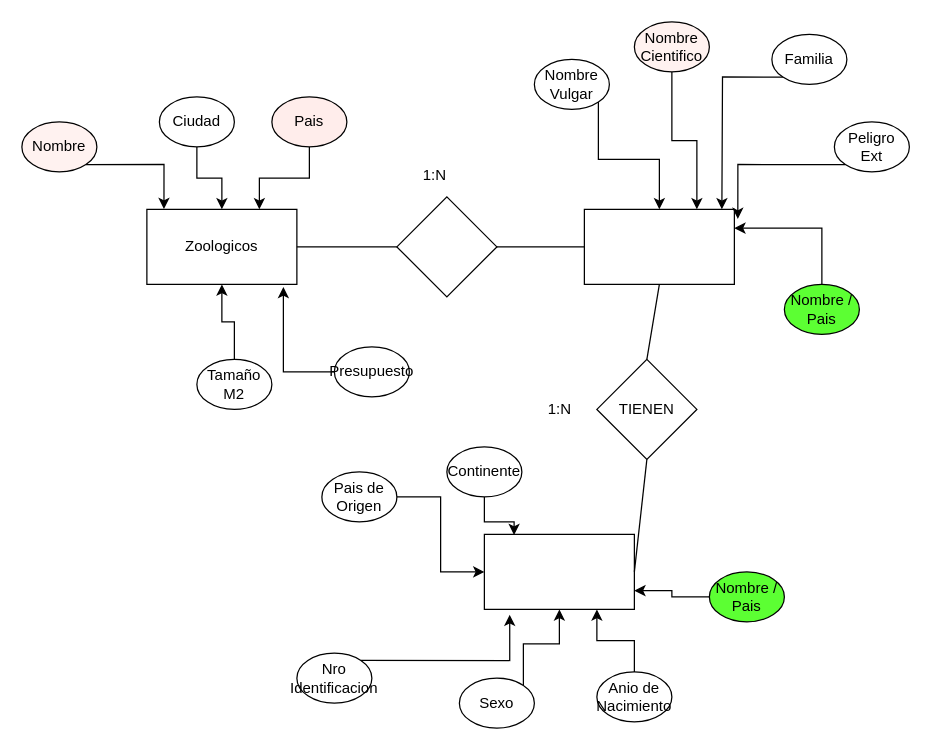
This 931x750 diagram has some shape labels left out. Each missing label, with the centre of its shape:
ALBERGAN: the point at 446,246
Animales: the point at 558,571
Especies: the point at 658,246
